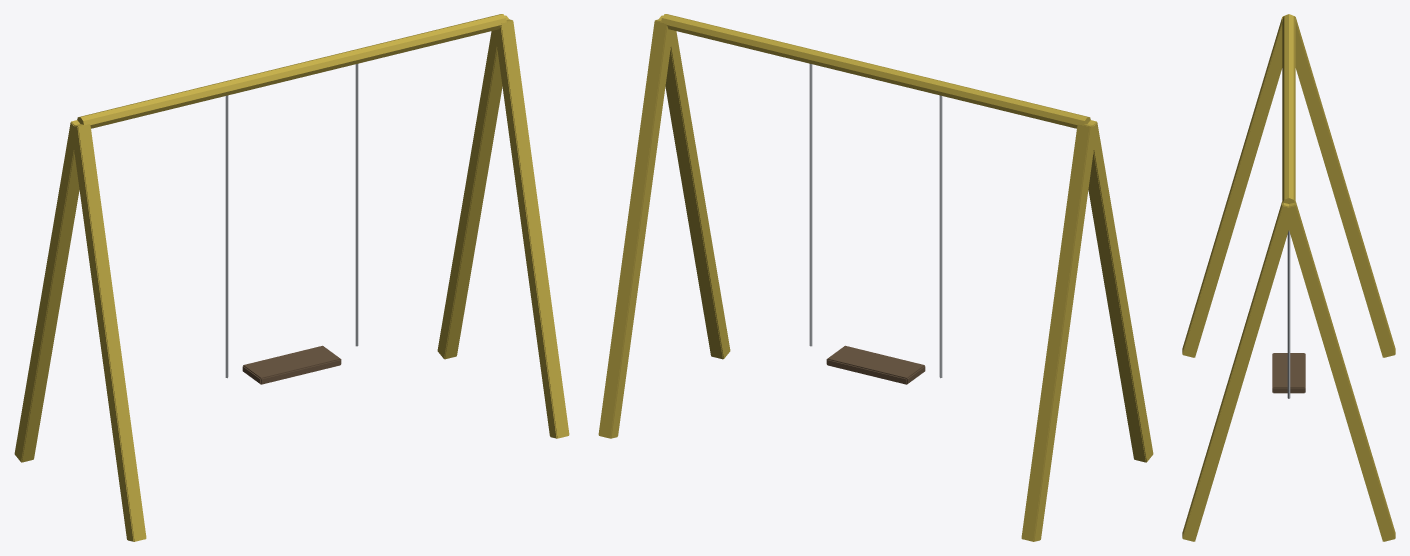
File: swing.glb
3 renders of one model, left to right at view 1: azimuth 30°, elevation 25°; view 2: azimuth 150°, elevation 25°; view 3: azimuth 270°, elevation 25°, orthographic. The views are drawn at different scales.
Visible parts, largest first — view 1: swing_frame, seat, chain, chain.001; view 2: swing_frame, seat, chain, chain.001; view 3: swing_frame, seat, chain.001.
Part boxes in pixels (x1,y1,x2,y2): swing_frame: [14, 14, 569, 541]; seat: [242, 345, 341, 384]; chain: [225, 95, 228, 378]; chain.001: [355, 64, 358, 346]; swing_frame: [598, 14, 1153, 541]; seat: [826, 345, 925, 384]; chain: [939, 95, 942, 378]; chain.001: [809, 64, 812, 346]; swing_frame: [1182, 14, 1395, 541]; seat: [1272, 353, 1305, 393]; chain.001: [1287, 230, 1290, 398].
Size of what is drawn, in the model's own units: 2.68 by 2.25 by 1.28.
